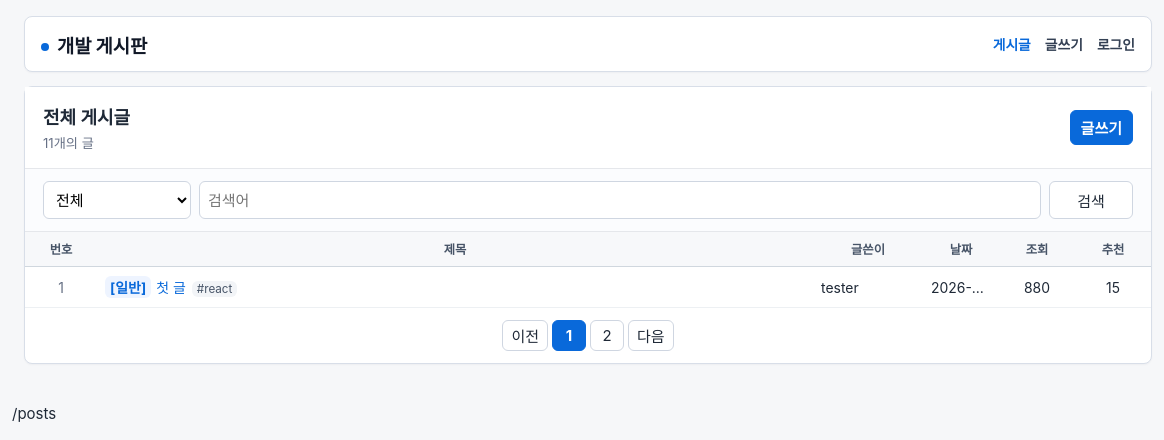
Test: 게시글 › 목록은 API 결과를 기준으로 페이지 번호를 이동한다
Click the button "2". click: click(607, 336)
box: [590,320,624,351]
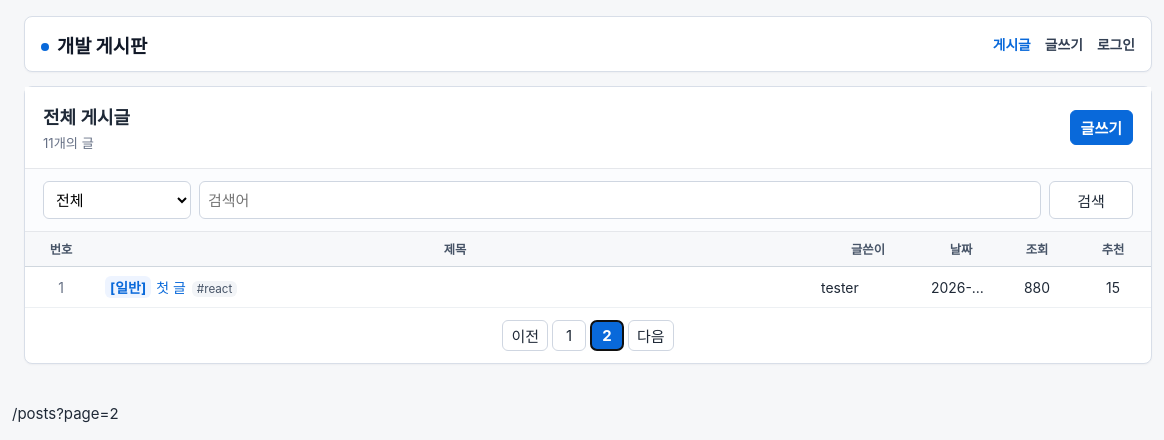
Check: the text named "현재 주소" reads "/posts?page=2", box [12,404,119,423]
